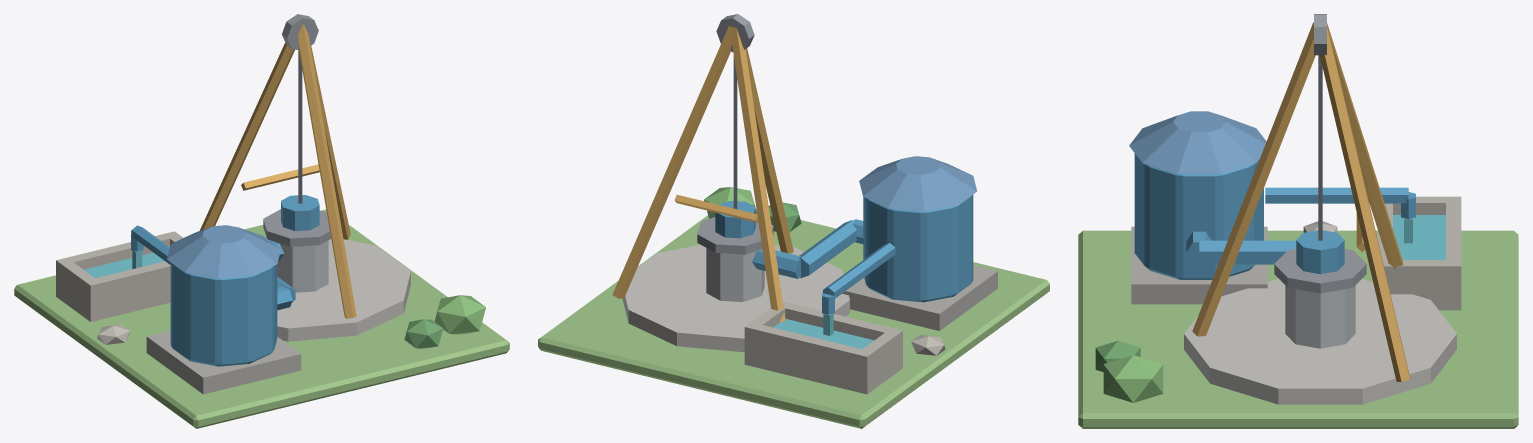
Rendered from agua__poco_artesiano.glb.
3 views of the same model, side by side, from view 1: azimuth 30°, elevation 25°; view 2: azimuth 150°, elevation 25°; view 3: azimuth 270°, elevation 25° (orthographic). The views are drawn at different scales.
Parts seen in each view (by area): view 1: agua__poco_artesiano; view 2: agua__poco_artesiano; view 3: agua__poco_artesiano.
Boxes of the visible parts, <box> form: agua__poco_artesiano: <box>14,14,509,428</box>; agua__poco_artesiano: <box>538,14,1049,428</box>; agua__poco_artesiano: <box>1078,14,1518,428</box>.
Bounding box in the file's own units: 2 × 1.76 × 2.
